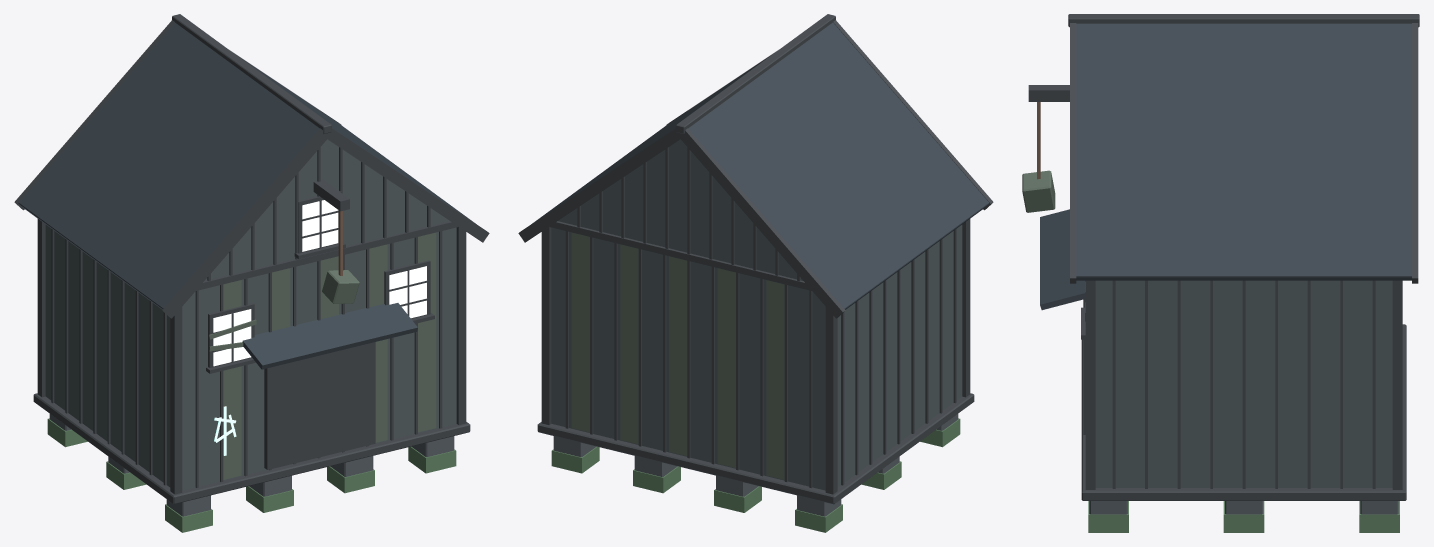
File: outdoor_warehouse.glb
3 renders of one model, left to right at view 1: azimuth 30°, elevation 25°; view 2: azimuth 150°, elevation 25°; view 3: azimuth 270°, elevation 25°, orthographic. The views are drawn at different scales.
Parts seen in each view (by area): view 1: Outdoor_Warehouse; view 2: Outdoor_Warehouse; view 3: Outdoor_Warehouse.
Part boxes in pixels (left/top/right/bottom): Outdoor_Warehouse: left=14, top=14, right=489, bottom=532; Outdoor_Warehouse: left=518, top=14, right=993, bottom=532; Outdoor_Warehouse: left=1022, top=14, right=1419, bottom=532.
Bounding box in the file's own units: 9.6 × 10.74 × 8.81.
